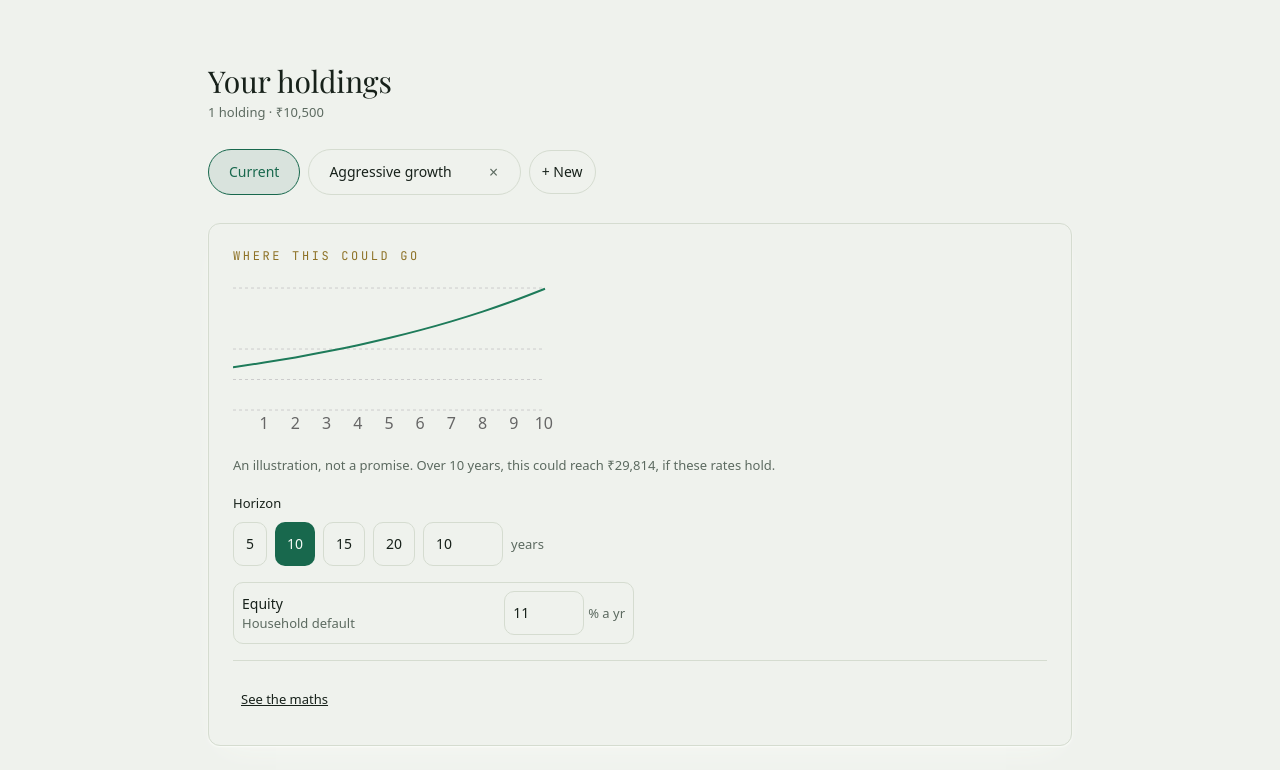
Test: Portfolio — the compare-strip position stays regression-safe with no suggestion active (M3) › renders the compare strip (no suggestion card) on a non-baseline ledger, as before this change
Step 1. Click the tab "Aggressive growth" → (391, 172), box [313,150,468,194]
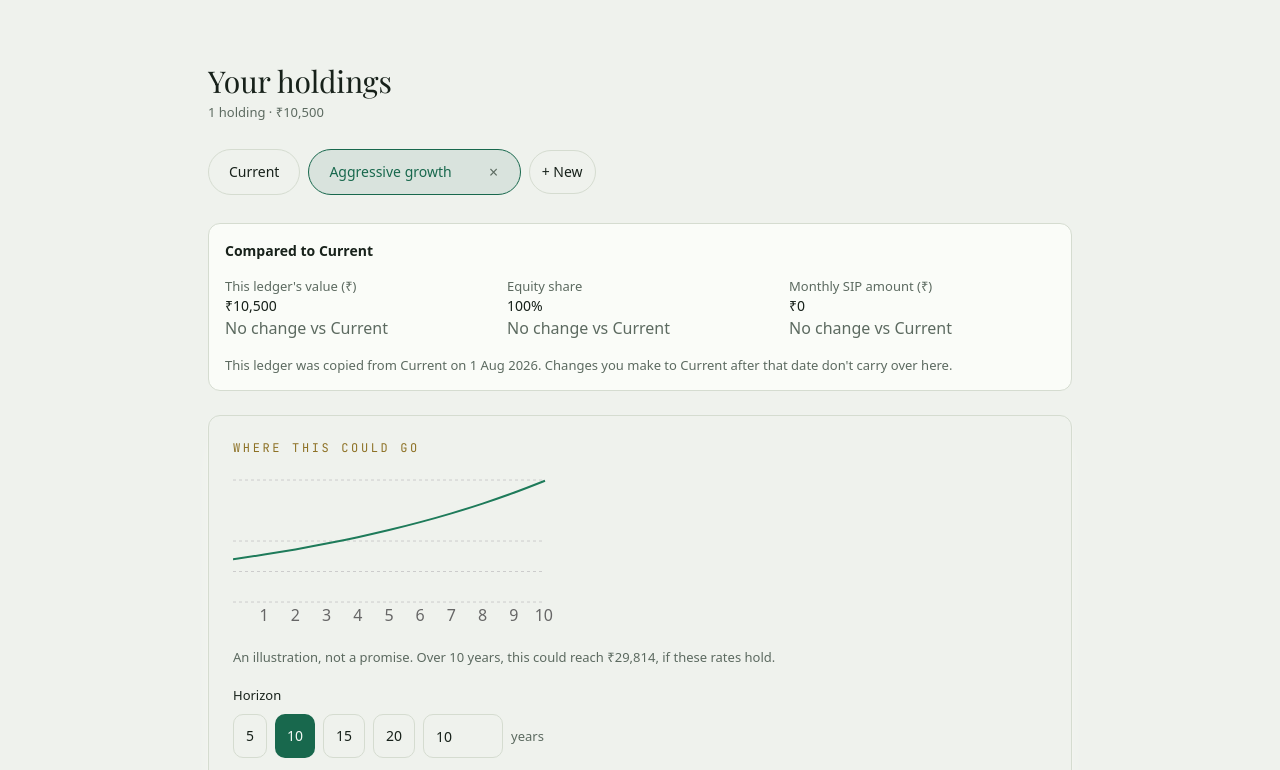
Expected: the heading "Compared to Current" is shown, [225,241,373,260]
